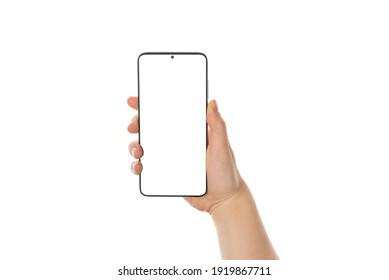mobile: (138, 52, 207, 197)
